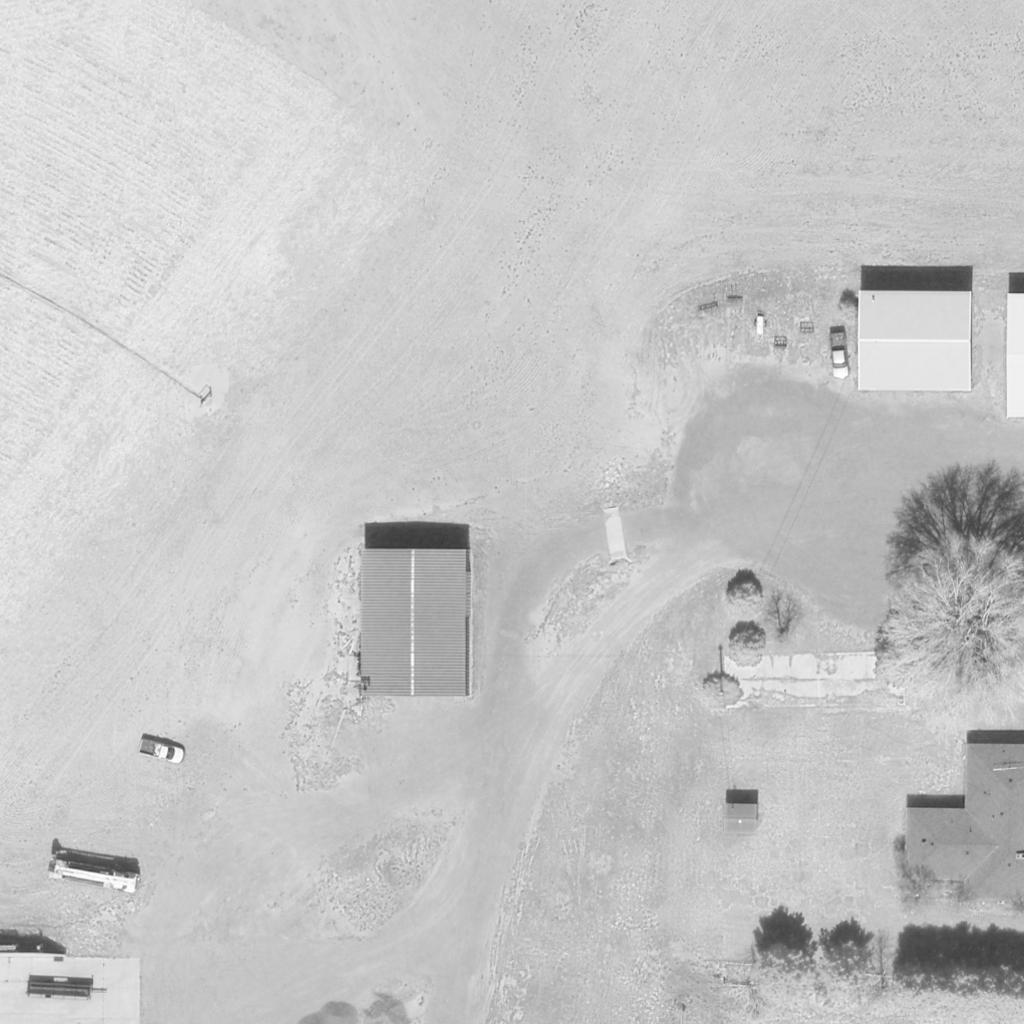vehicle: (46, 857, 138, 897), (135, 737, 185, 767), (830, 334, 850, 378)
